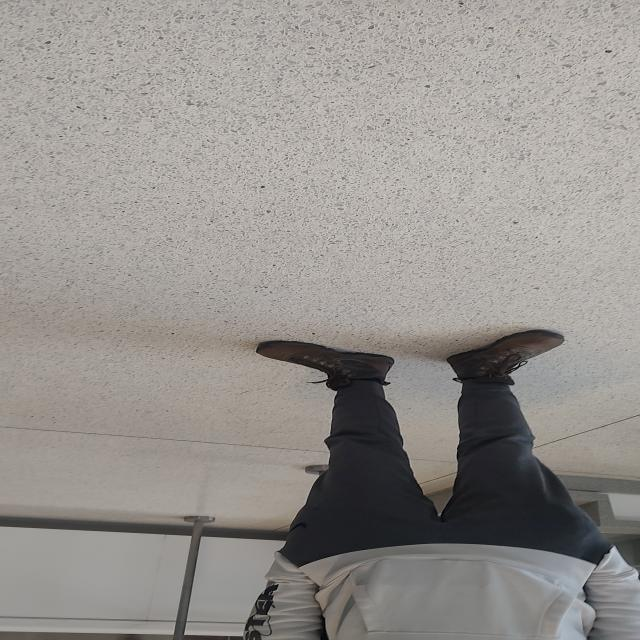Boots: (438, 325, 572, 389), (248, 336, 396, 389)
